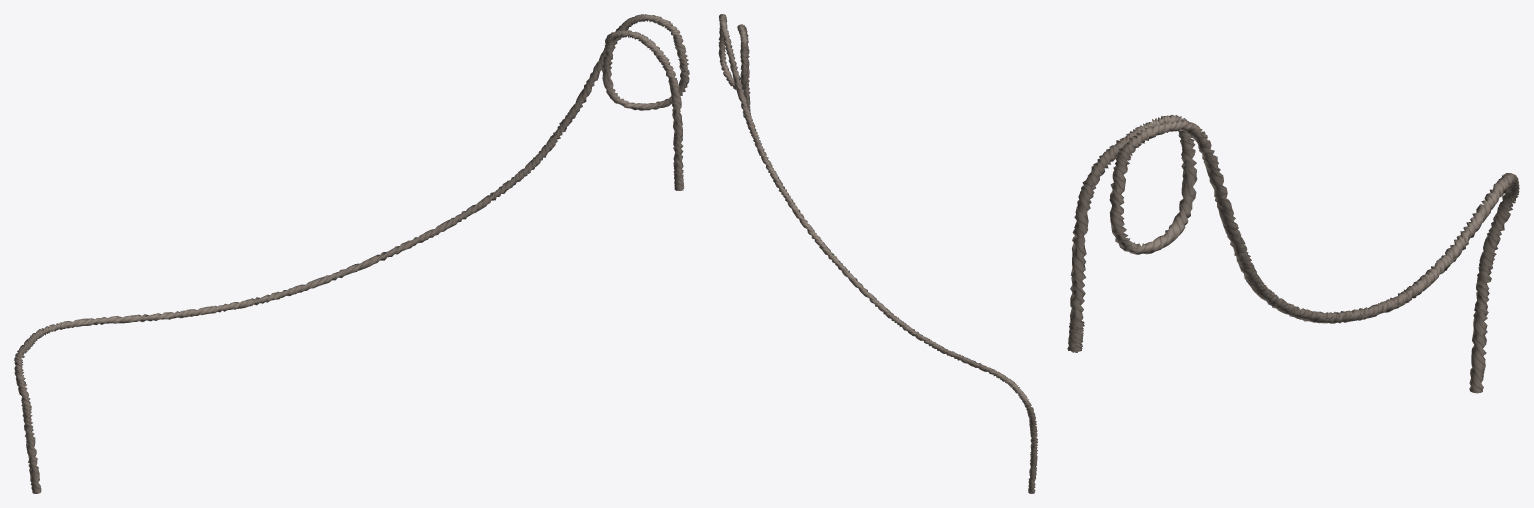
The model's file is SM_RopeSplineMesh_Splines_23.fbx.
3 views of the same model, side by side, from view 1: azimuth 30°, elevation 25°; view 2: azimuth 150°, elevation 25°; view 3: azimuth 270°, elevation 25° (orthographic). The views are drawn at different scales.
Parts seen in each view (by area): view 1: SM_RopeSplineMesh_Splines_23; view 2: SM_RopeSplineMesh_Splines_23; view 3: SM_RopeSplineMesh_Splines_23.
Boxes of the visible parts, x1,y1,x2,y2 form: SM_RopeSplineMesh_Splines_23: [14, 14, 689, 493]; SM_RopeSplineMesh_Splines_23: [718, 14, 1037, 493]; SM_RopeSplineMesh_Splines_23: [1067, 115, 1519, 393].
Bounding box in the file's own units: 258 × 123 × 193.
